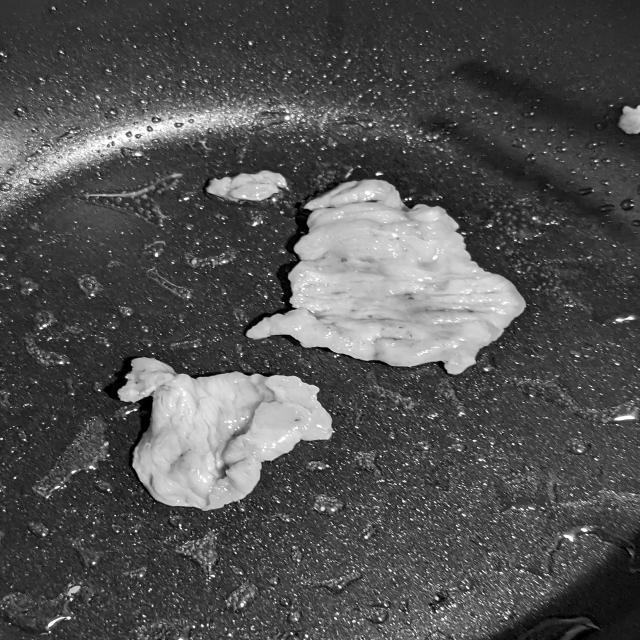NG undercooked pork,: (237, 170, 533, 380), (112, 350, 347, 520)
